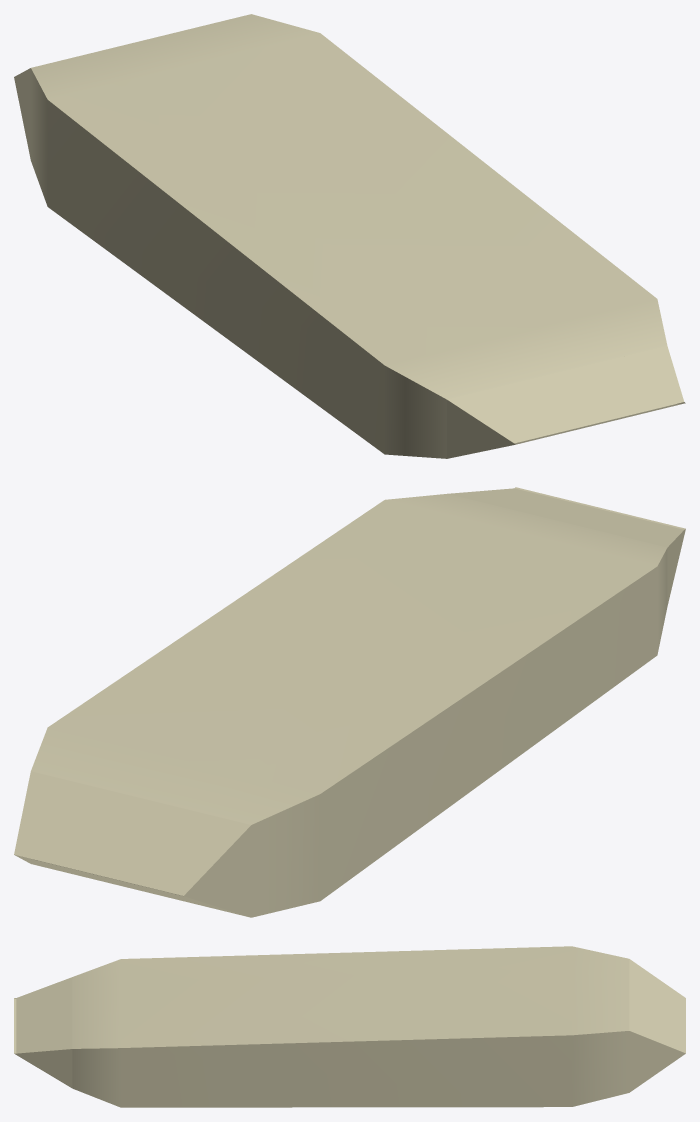
File: tamal.fbx
The picture shows the model from 3 angles, top to bottom: view 1: azimuth 30°, elevation 25°; view 2: azimuth 150°, elevation 25°; view 3: azimuth 270°, elevation 25°; orthographic projection. The views are drawn at different scales.
Parts seen in each view (by area): view 1: pasted__pCube1; view 2: pasted__pCube1; view 3: pasted__pCube1.
Part boxes in pixels (x1,y1,x2,y2): pasted__pCube1: (14,14,685,458); pasted__pCube1: (14,487,685,917); pasted__pCube1: (14,946,685,1107).
Size of the model in its own units: 1 by 0.379 by 3.19.
